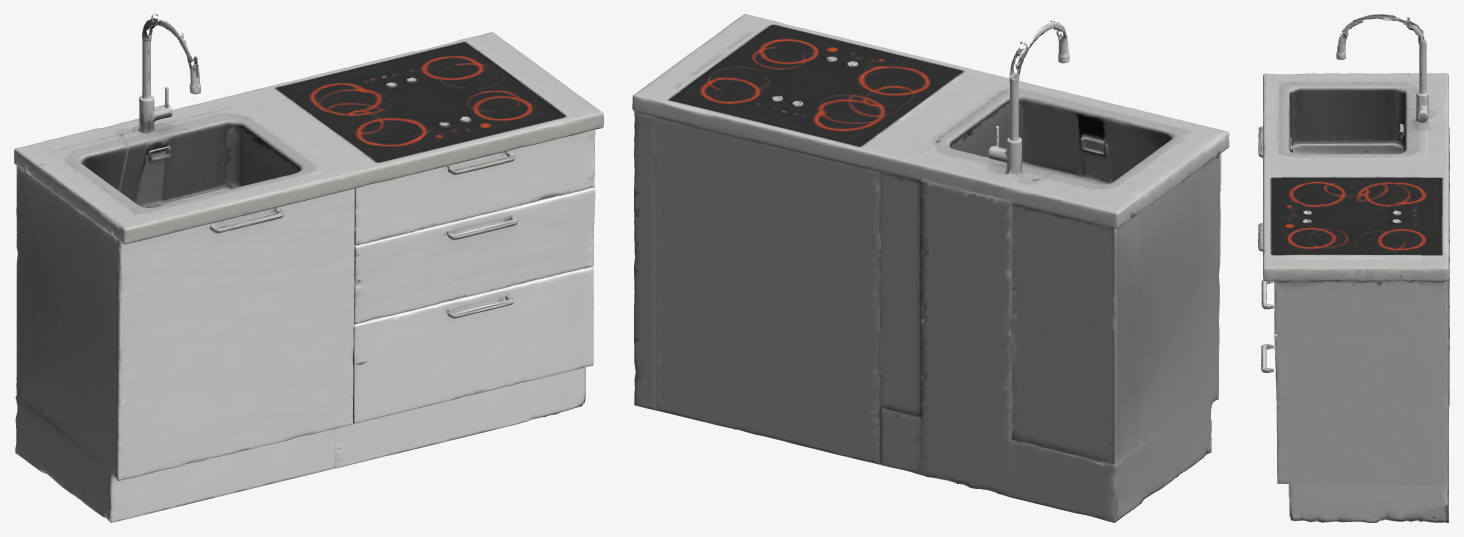
Rendered from Make_a_sink_with_a_st_1111034919_texture.glb.
3 renders of one model, left to right at view 1: azimuth 30°, elevation 25°; view 2: azimuth 150°, elevation 25°; view 3: azimuth 270°, elevation 25°, orthographic. The views are drawn at different scales.
Bounding box in the file's own units: 1.9 × 1.64 × 0.7887.
Materials: 1 (1 with a texture image).
